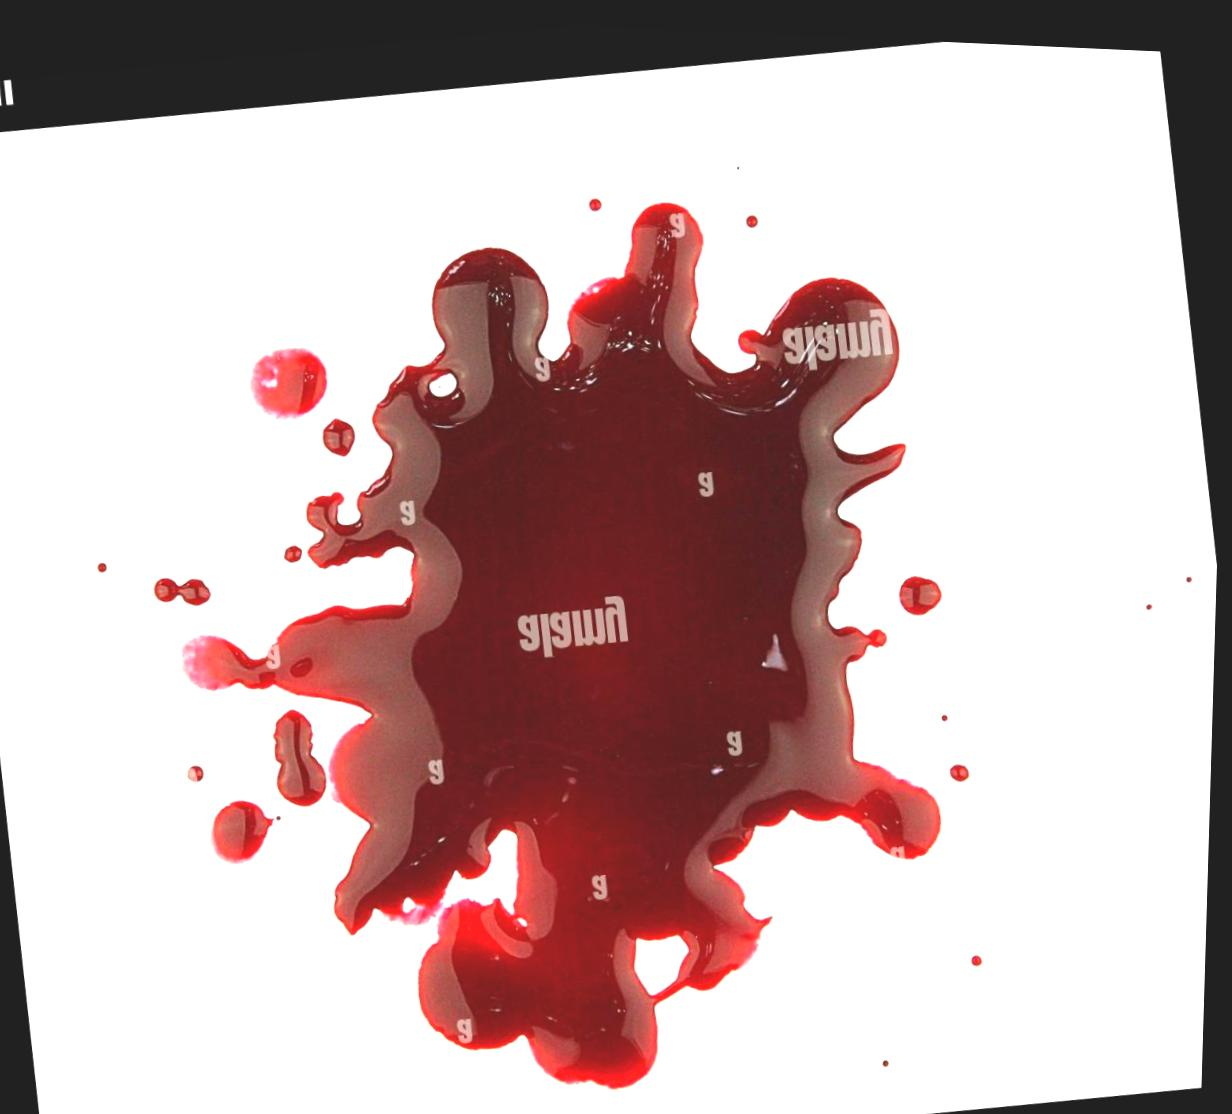Fire: (185, 196, 945, 1085), (251, 346, 329, 419), (277, 706, 331, 804), (215, 798, 279, 863), (901, 568, 945, 607), (157, 576, 215, 604), (323, 416, 357, 454)
